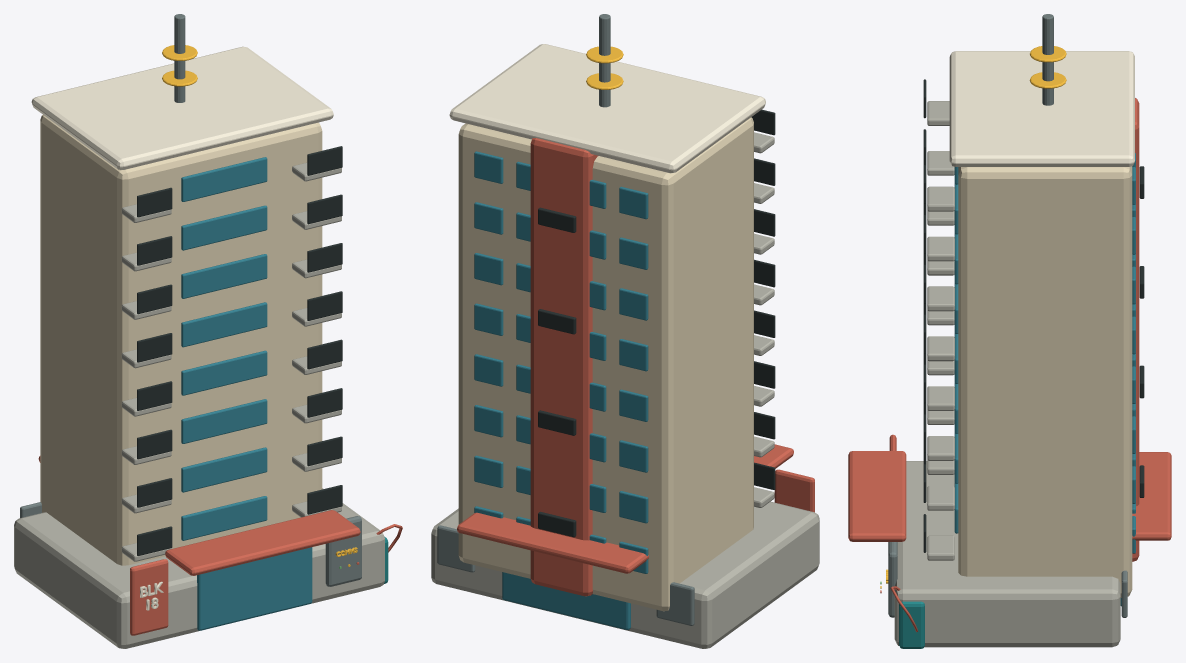
Rendered from pointblock-call-v2.glb.
The picture shows the model from 3 angles, left to right: view 1: azimuth 30°, elevation 25°; view 2: azimuth 150°, elevation 25°; view 3: azimuth 270°, elevation 25°; orthographic projection. The views are drawn at different scales.
Parts seen in each view (by area): view 1: MR TAN POINT BLOCK CALL KIT · Chalk; view 2: MR TAN POINT BLOCK CALL KIT · Chalk; view 3: MR TAN POINT BLOCK CALL KIT · Chalk.
Boxes of the visible parts, x1,y1,x2,y2 form: MR TAN POINT BLOCK CALL KIT · Chalk: (14, 14, 402, 648); MR TAN POINT BLOCK CALL KIT · Chalk: (431, 14, 819, 648); MR TAN POINT BLOCK CALL KIT · Chalk: (848, 14, 1171, 648).
Size of the model in its own units: 5.87 by 10.81 by 5.58.
1 material, 1 textured.
